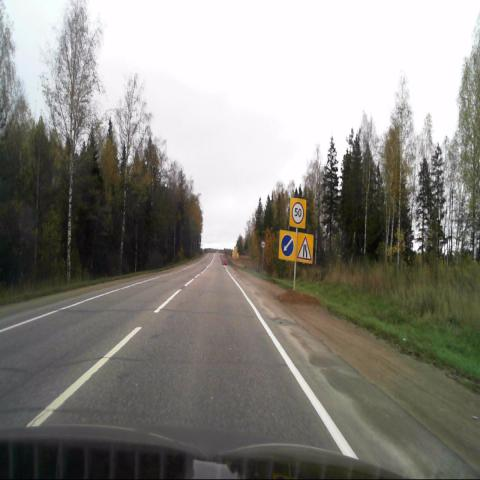1_20_2: (296, 233, 313, 264)
